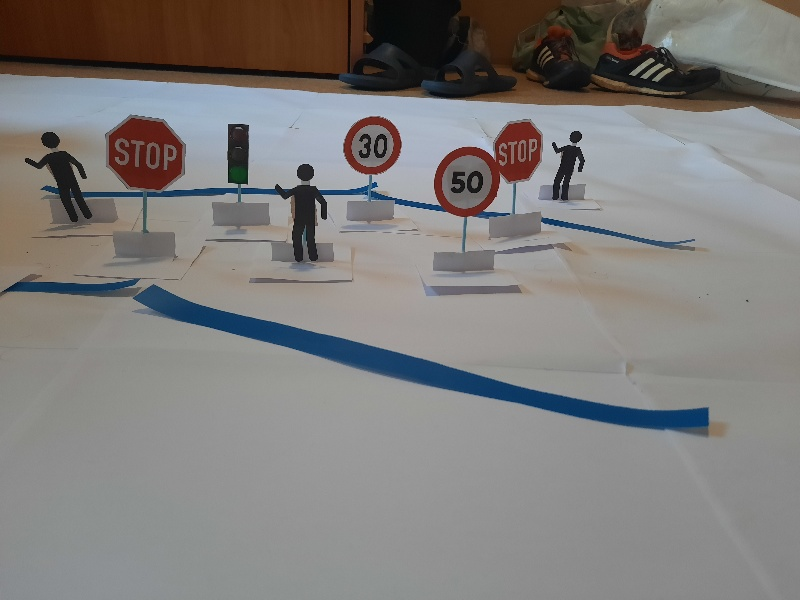Green: (225, 120, 253, 190)
Limit 30: (342, 113, 402, 176)
Limit 50: (433, 147, 499, 219)
Person: (23, 129, 95, 226), (271, 163, 327, 265), (549, 126, 587, 201)
Stop: (103, 110, 187, 197), (494, 118, 544, 184)
